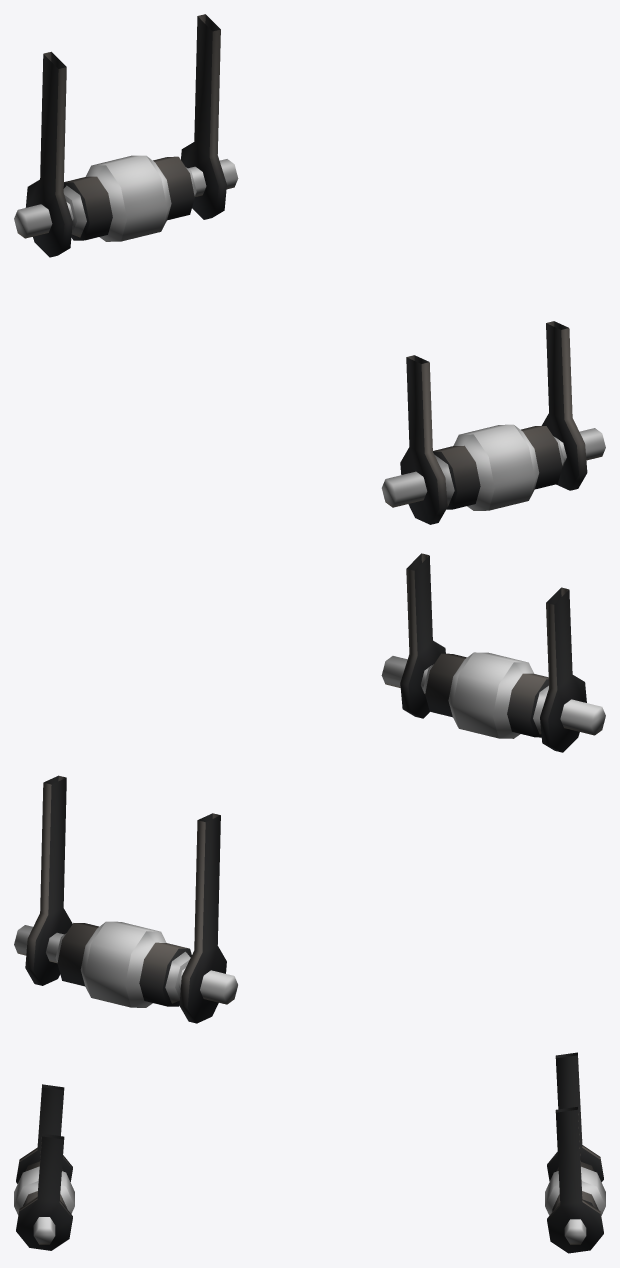
Rendered from Transmission_Front.fbx.
3 views of the same model, one above another, from view 1: azimuth 30°, elevation 25°; view 2: azimuth 150°, elevation 25°; view 3: azimuth 270°, elevation 25° (orthographic). The views are drawn at different scales.
Visible parts, largest first — view 1: Transmission_Rear, Front_Tramission; view 2: Transmission_Rear, Front_Tramission; view 3: Transmission_Rear, Front_Tramission.
Part boxes in pixels (x1,y1,x2,y2): Transmission_Rear: [14, 14, 238, 257]; Front_Tramission: [381, 321, 605, 524]; Transmission_Rear: [14, 775, 237, 1023]; Front_Tramission: [381, 553, 605, 752]; Transmission_Rear: [545, 1052, 605, 1253]; Front_Tramission: [14, 1084, 74, 1250].
Bounding box in the file's own units: 1563 × 1440 × 5300.
